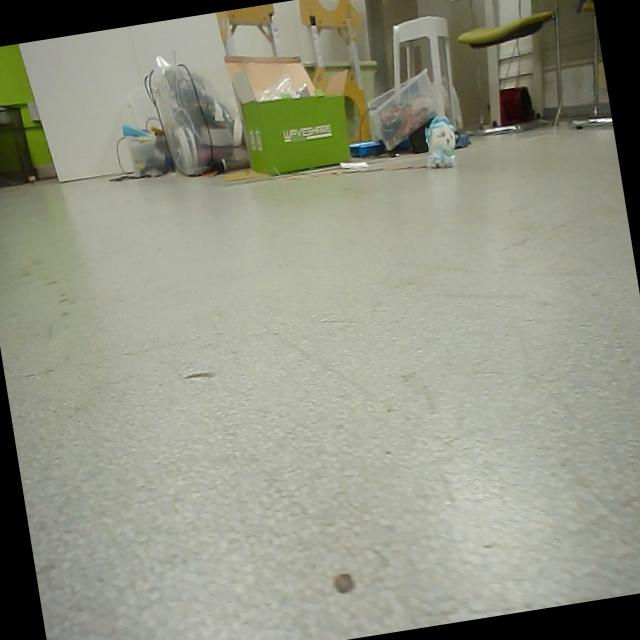xiaoba: (416, 109, 461, 176)
